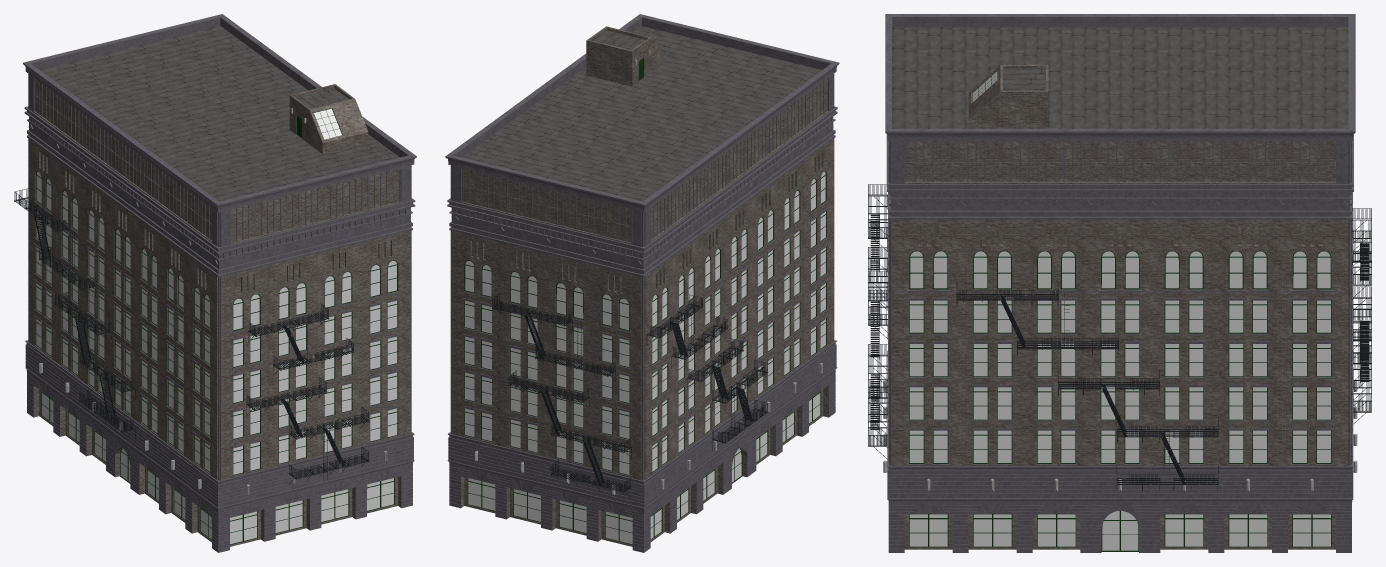
File: Building_05.fbx
The picture shows the model from 3 angles, left to right: view 1: azimuth 30°, elevation 25°; view 2: azimuth 150°, elevation 25°; view 3: azimuth 270°, elevation 25°; orthographic projection. The views are drawn at different scales.
Visible parts, largest first — view 1: Building_05_LOD0; view 2: Building_05_LOD0; view 3: Building_05_LOD0.
Part boxes in pixels (<box>): Building_05_LOD0: <box>14,14,416,552</box>; Building_05_LOD0: <box>445,14,839,552</box>; Building_05_LOD0: <box>868,14,1371,552</box>.
Size of what is drawn, in the model's own units: 2385 by 3836 by 3847.
